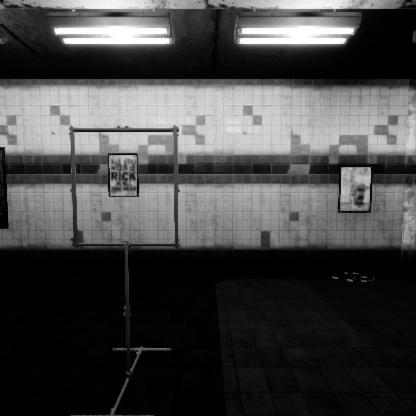gate: (70, 168, 189, 289)
